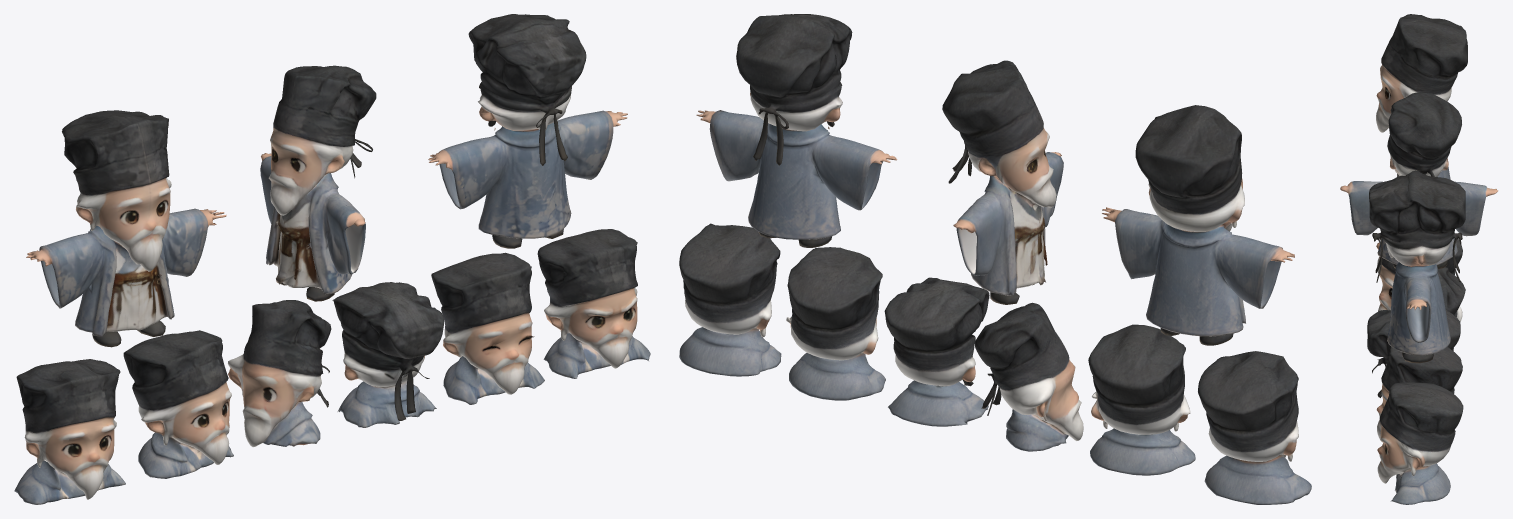
File: base_basic_pbr.glb
3 renders of one model, left to right at view 1: azimuth 30°, elevation 25°; view 2: azimuth 150°, elevation 25°; view 3: azimuth 270°, elevation 25°, orthographic. The views are drawn at different scales.
Visible parts, largest first — view 1: model; view 2: model; view 3: model.
Boxes of the visible parts, <box> form: model: <box>14,14,650,504</box>; model: <box>679,14,1311,504</box>; model: <box>1340,14,1498,504</box>.
Size of the model in its own units: 1.89 by 1.04 by 0.5231.
Materials: 1 (1 with a texture image).
